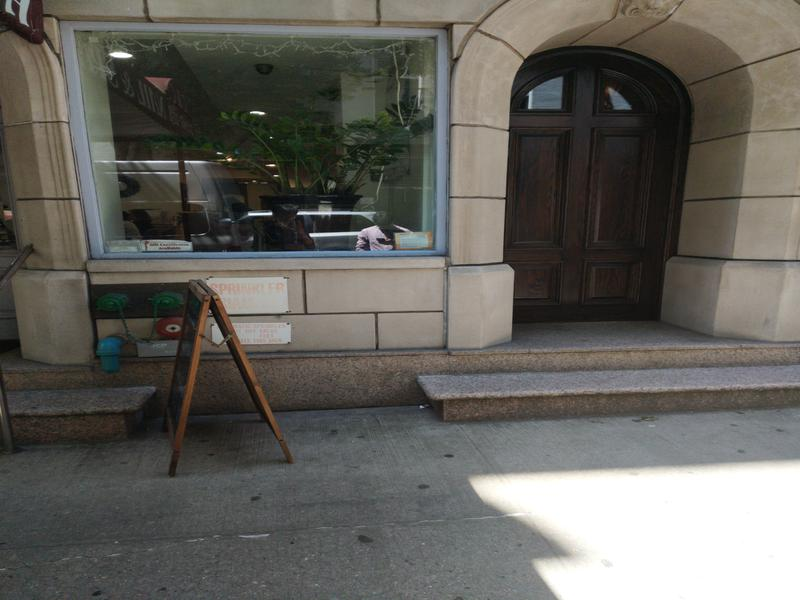door: (507, 47, 676, 327)
